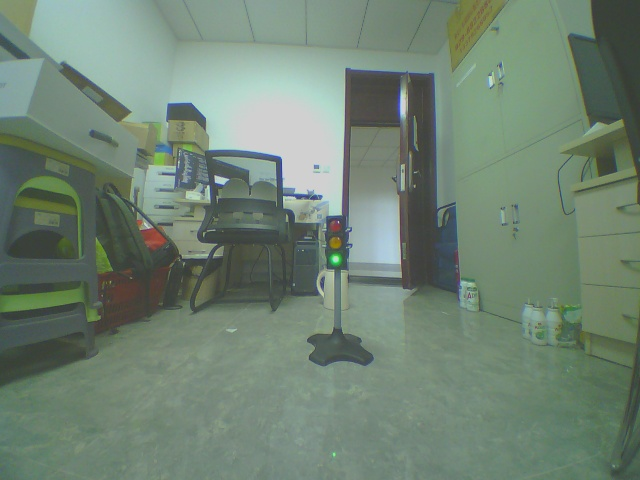Green: (323, 215, 355, 278)
